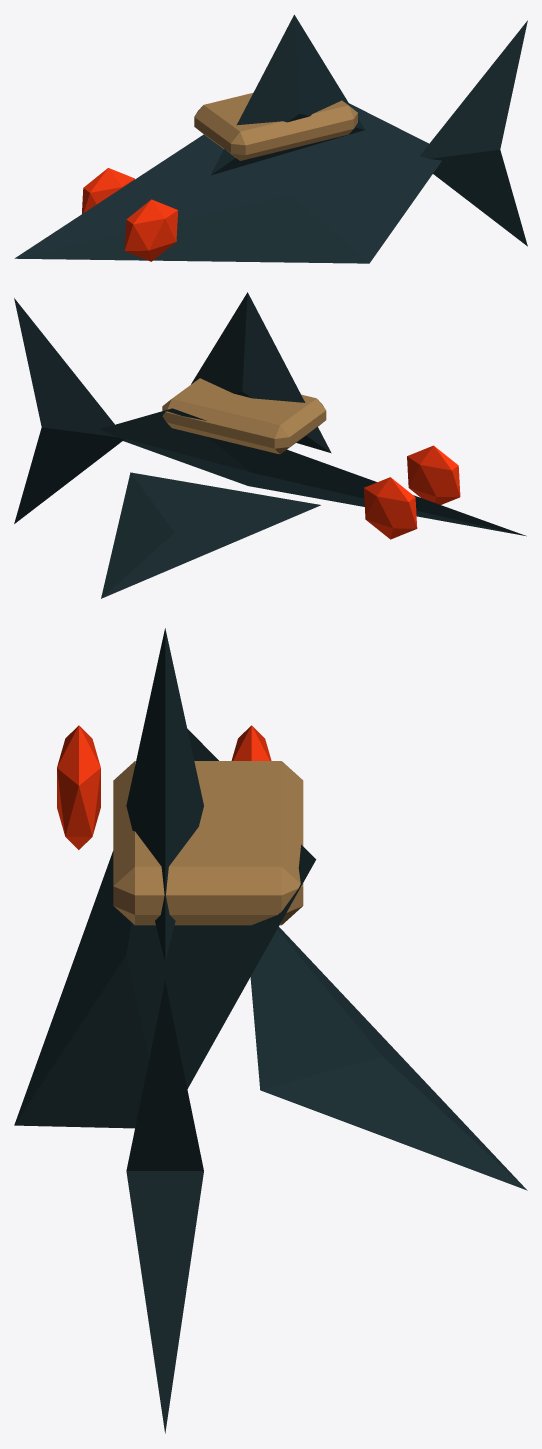
Rendered from SwarmEnemy.obj.
3 views of the same model, one above another, from view 1: azimuth 30°, elevation 25°; view 2: azimuth 150°, elevation 25°; view 3: azimuth 270°, elevation 25° (orthographic). The views are drawn at different scales.
Visible parts, largest first — view 1: SwarmEnemy; view 2: SwarmEnemy; view 3: SwarmEnemy.
Boxes of the visible parts, bbox=[...] form: SwarmEnemy: bbox=[14, 14, 527, 263]; SwarmEnemy: bbox=[14, 292, 526, 598]; SwarmEnemy: bbox=[14, 628, 527, 1433].
Bounding box in the file's own units: 3.09 × 1.66 × 1.34.
3 materials, 3 textured.
